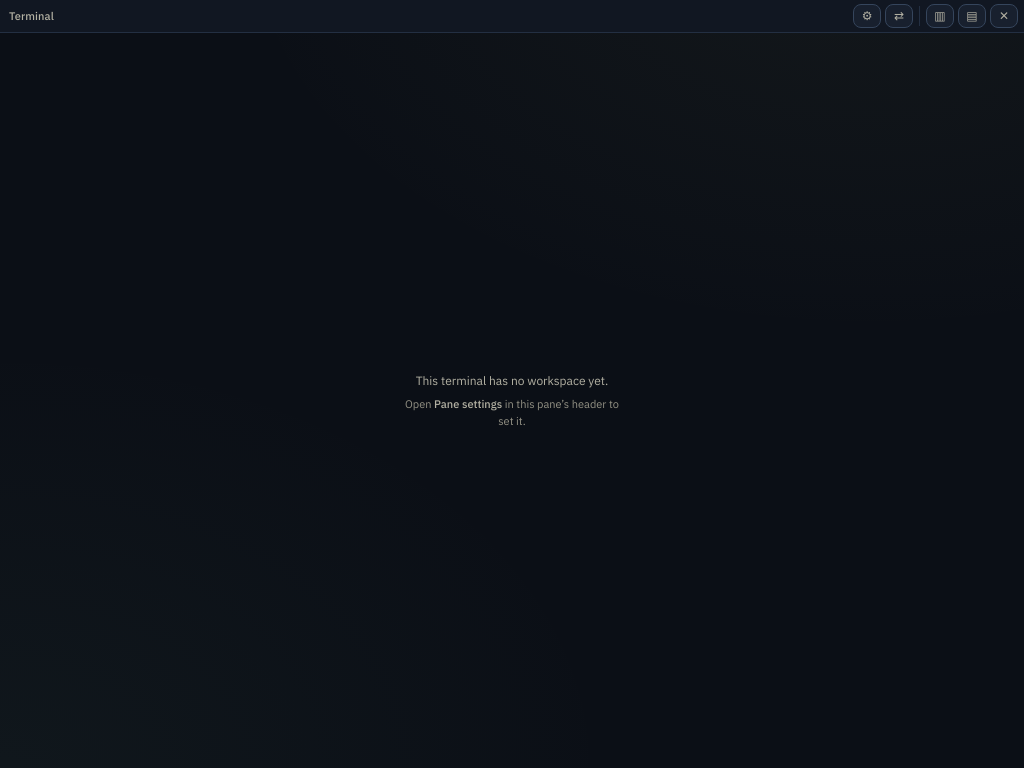
Test: the settings form is a dialog over the app › closes when the overlay behind it is clicked
Check: the element with test id "view-host" is shown, box [0, 0, 1023, 428]
Click the button "⚙".
click(867, 16)  # box [853, 4, 881, 28]
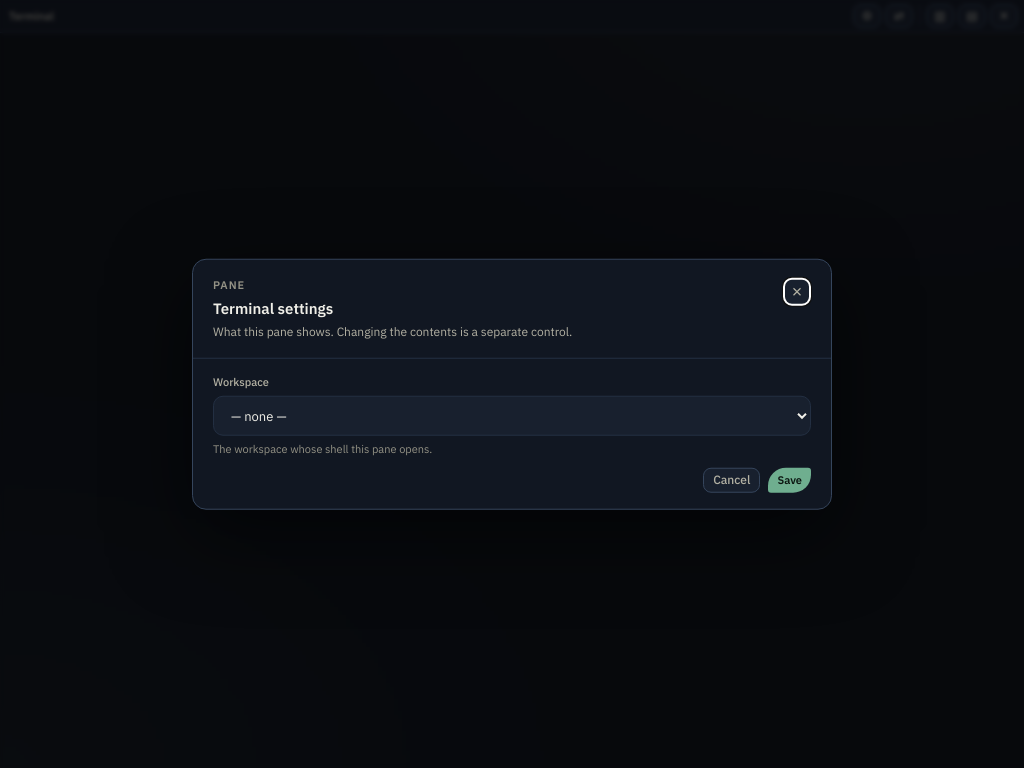
Check: the element with class "modal-overlay" is shown
Click the element with class "modal-overlay".
click(61, 384)  # box [0, 0, 1023, 767]
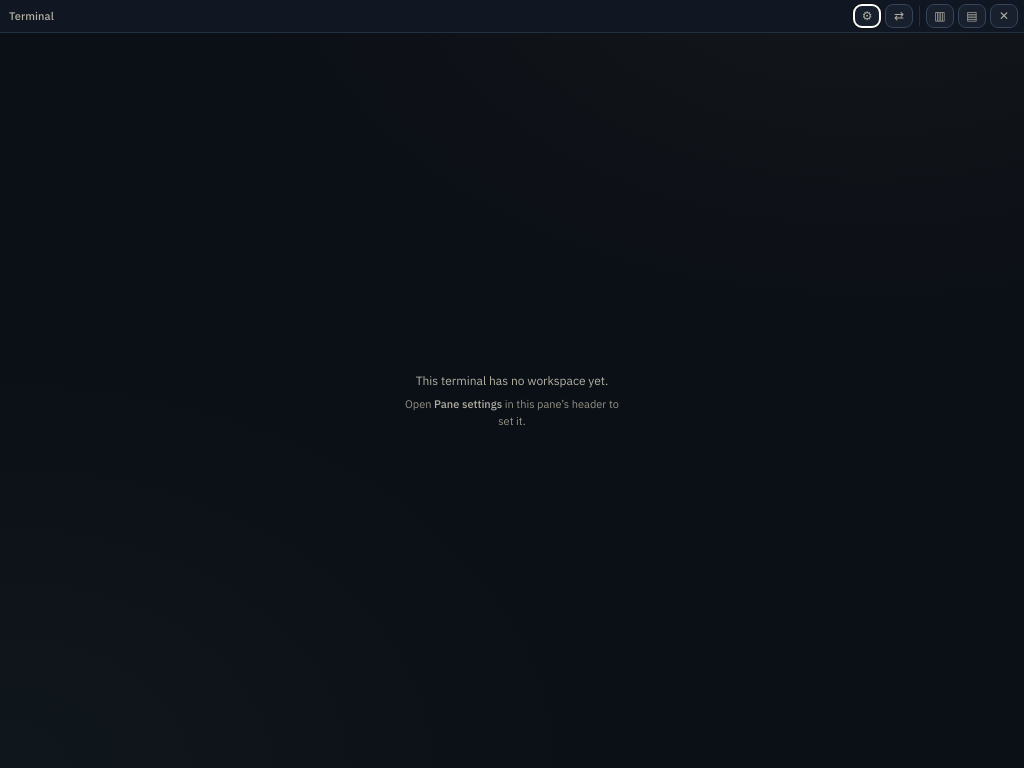
Check: the dialog is gone
